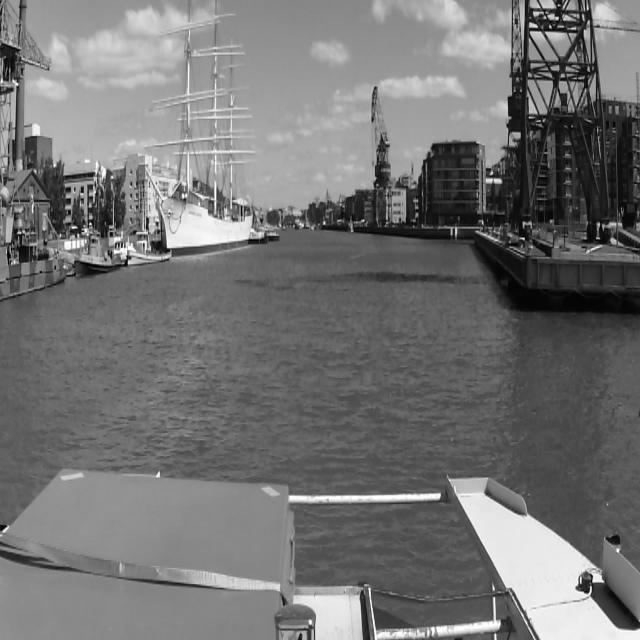ship: (141, 21, 253, 255), (2, 200, 64, 300), (126, 228, 174, 268), (73, 232, 111, 274), (249, 228, 269, 246), (266, 229, 280, 242)
